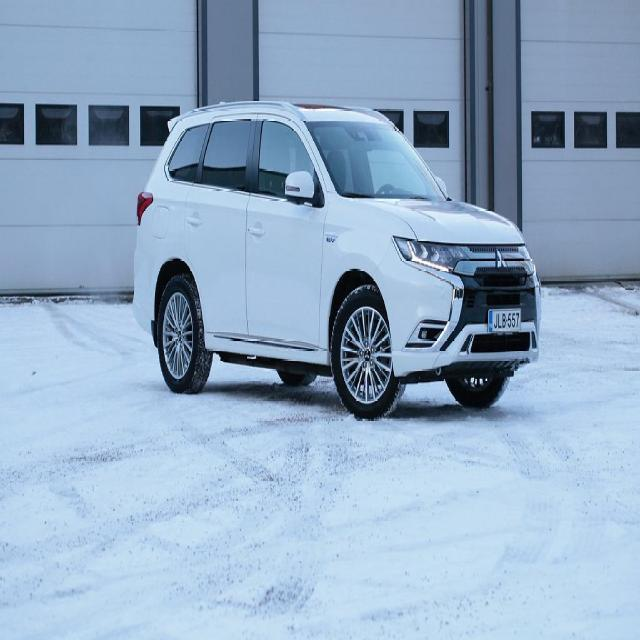light_vehicle: (131, 100, 542, 418)
